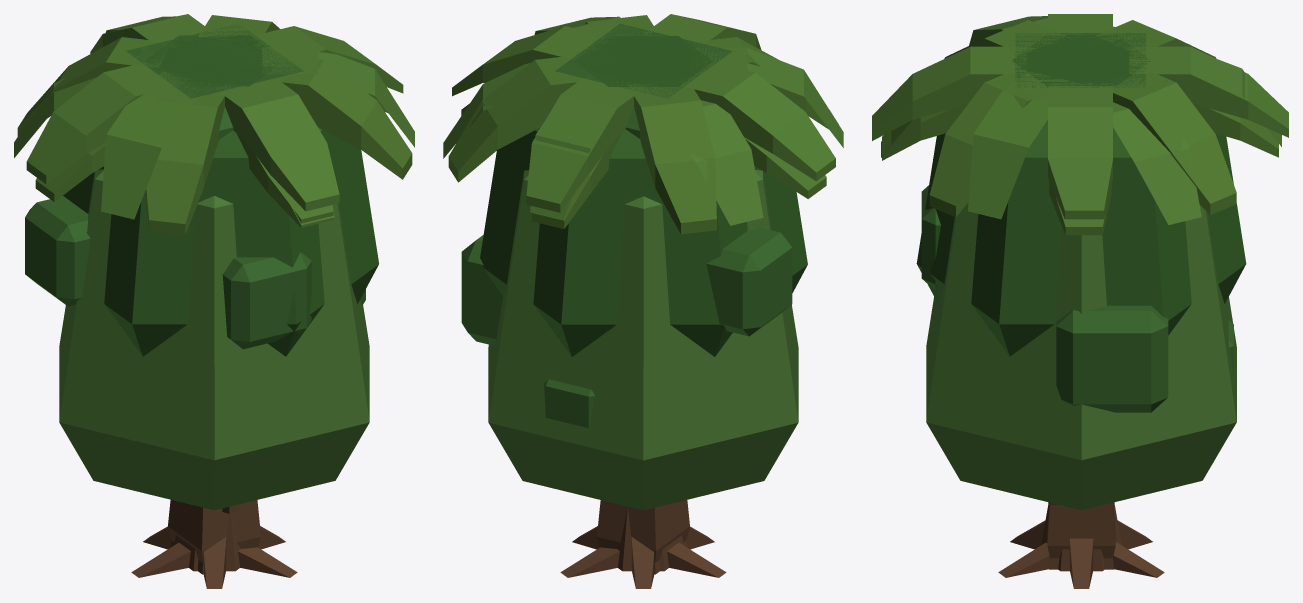
The model's file is trees.glb.
3 views of the same model, side by side, from view 1: azimuth 30°, elevation 25°; view 2: azimuth 150°, elevation 25°; view 3: azimuth 270°, elevation 25° (orthographic).
Parts seen in each view (by area): view 1: fat, oak, palm, palmDetailed, detailed, palmBend; view 2: fat, oak, palm, palmDetailed, detailed, palmBend; view 3: fat, oak, palm, palmDetailed, palmBend, detailed.
Part boxes in pixels (x1,y1,x2,y2): fat: (59,169,369,574); oak: (63,35,378,588); palm: (26,14,403,562); palmDetailed: (17,15,412,235); detailed: (25,23,365,349); palmBend: (14,16,414,225); fat: (488,170,798,574); oak: (480,36,807,588); palm: (452,14,835,562); palmDetailed: (448,15,838,234); detailed: (461,23,792,427); palmBend: (443,16,843,225); fat: (926,202,1236,569); oak: (916,35,1246,588); palm: (872,14,1288,558); palmDetailed: (882,20,1278,235); palmBend: (881,16,1281,504); detailed: (921,33,1233,412).
Bounding box in the file's own units: 0.7629 × 1 × 0.7629.
